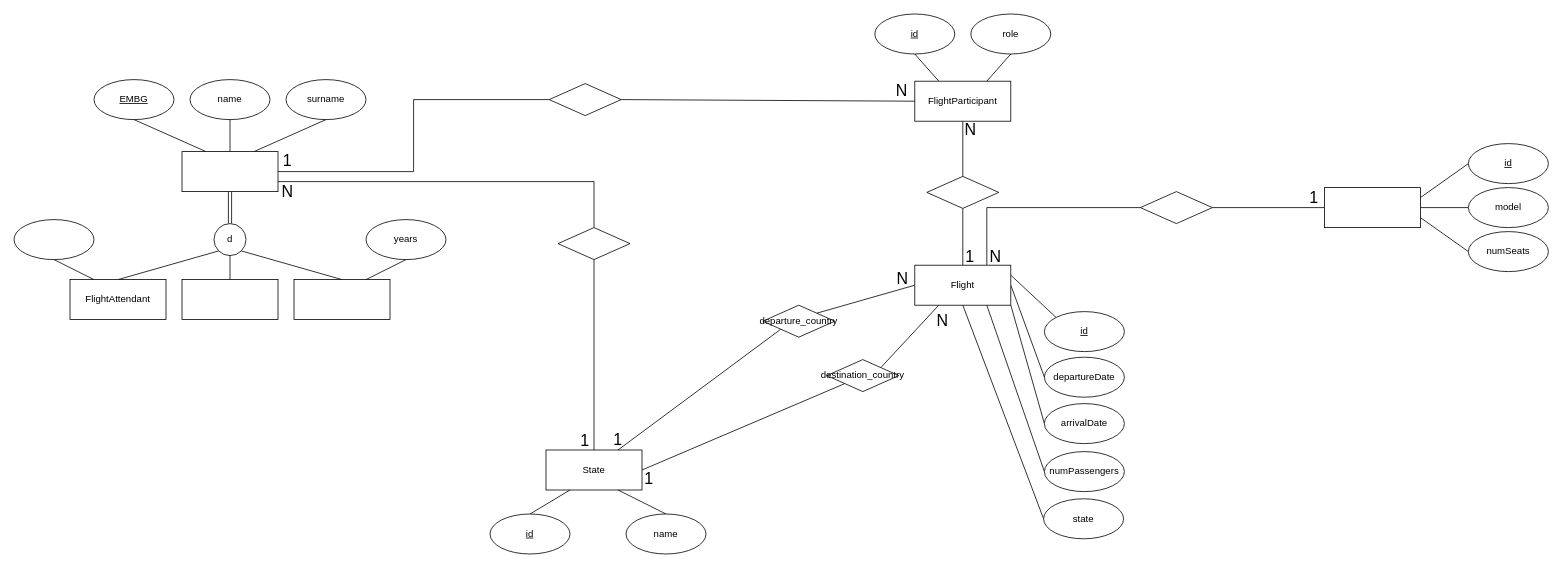
The diagram is 1562 pixels wide and 568 high, and some of its shapes have lost their labels. Here are the shapes that lost their labels. From the top down, the centre of each, then its label:
[584,99]: corresponds_to
[229,171]: Person
[962,192]: attendance
[1176,207]: usage
[1372,207]: Plane
[53,239]: numFlights
[593,243]: place_of_birth
[229,299]: Passenger
[341,299]: Pilot
